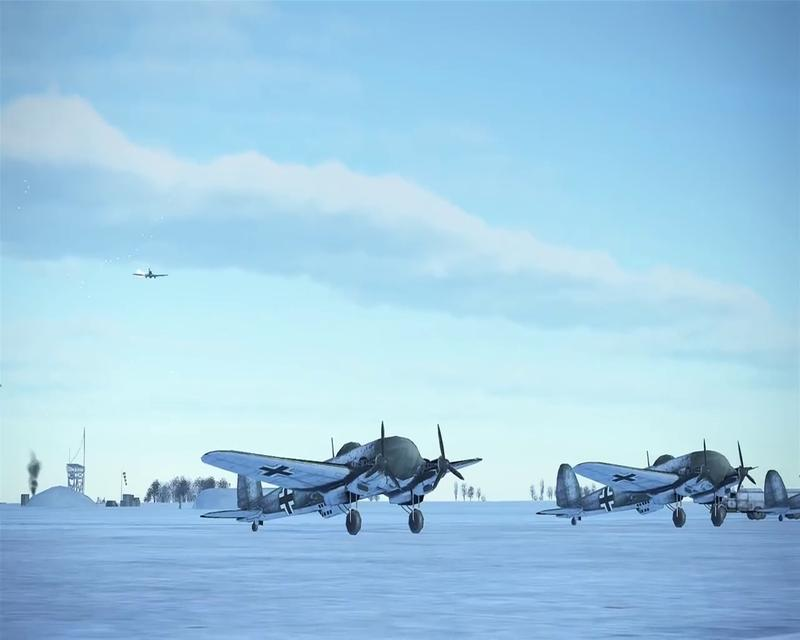UAV: (200, 421, 483, 536), (535, 437, 759, 529), (130, 268, 168, 282)
